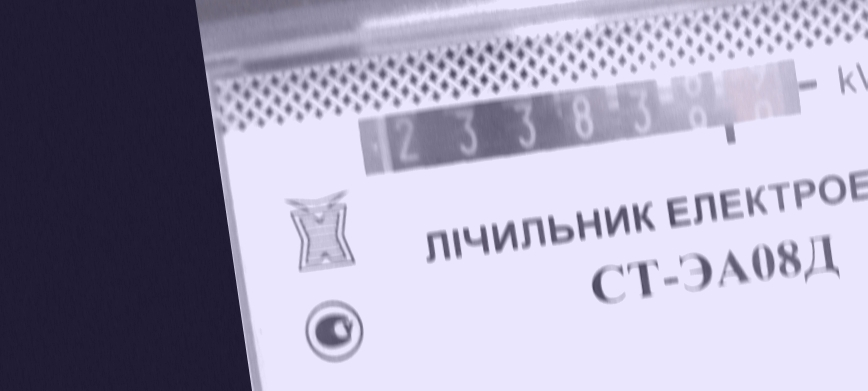0: (747, 94, 777, 122)
2: (388, 112, 422, 164)
3: (448, 105, 482, 158), (623, 83, 655, 135), (509, 98, 540, 151)
8: (566, 91, 597, 140), (677, 69, 708, 99)
9: (681, 100, 711, 132), (743, 59, 771, 91)
screen: (342, 41, 822, 200)
